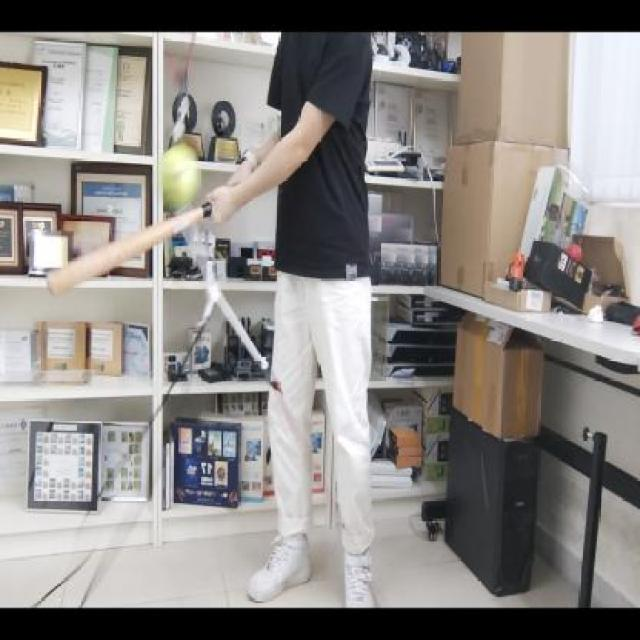baseball: (155, 142, 203, 210)
